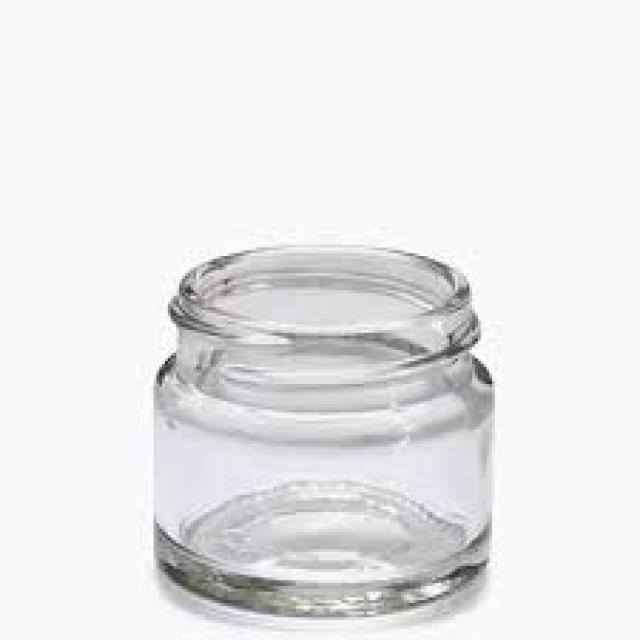glass: (151, 242, 495, 617)
